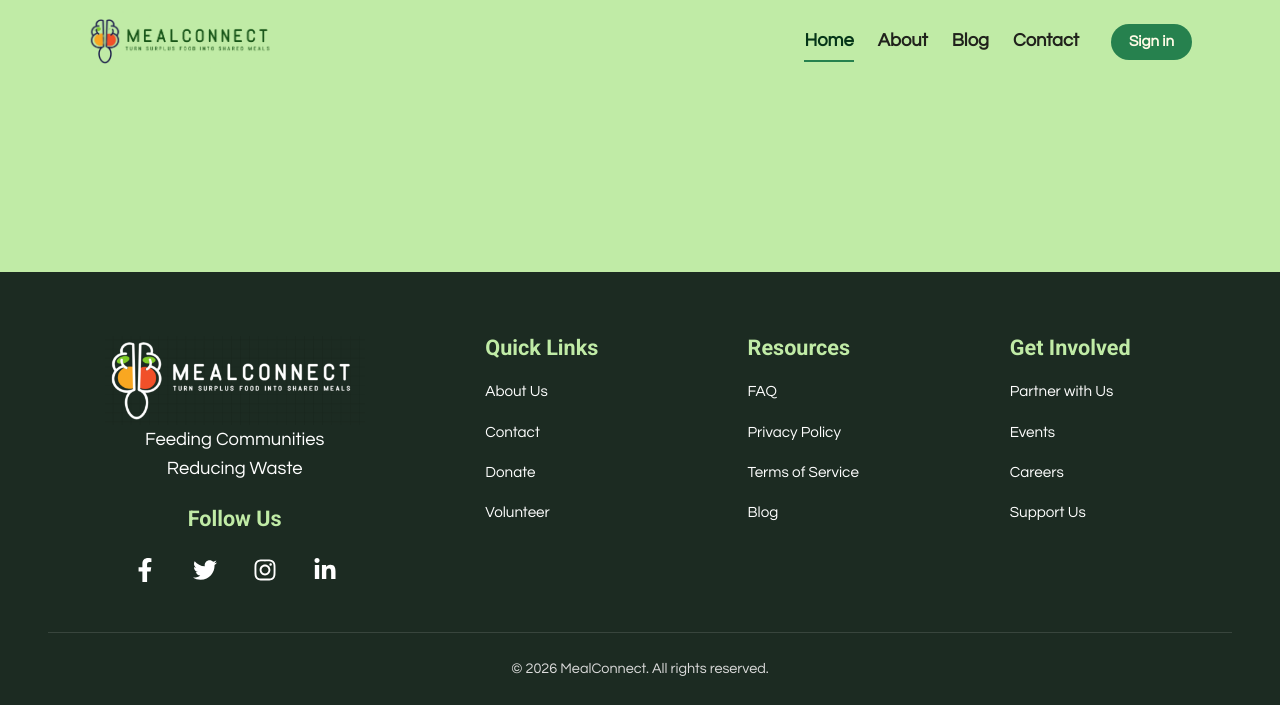
footer navigation › footer link Privacy Policy resolves to a real page
(page scrolled)
Click the link "Privacy Policy".
click(794, 432)  # box [748,425,841,440]
(page scrolled)
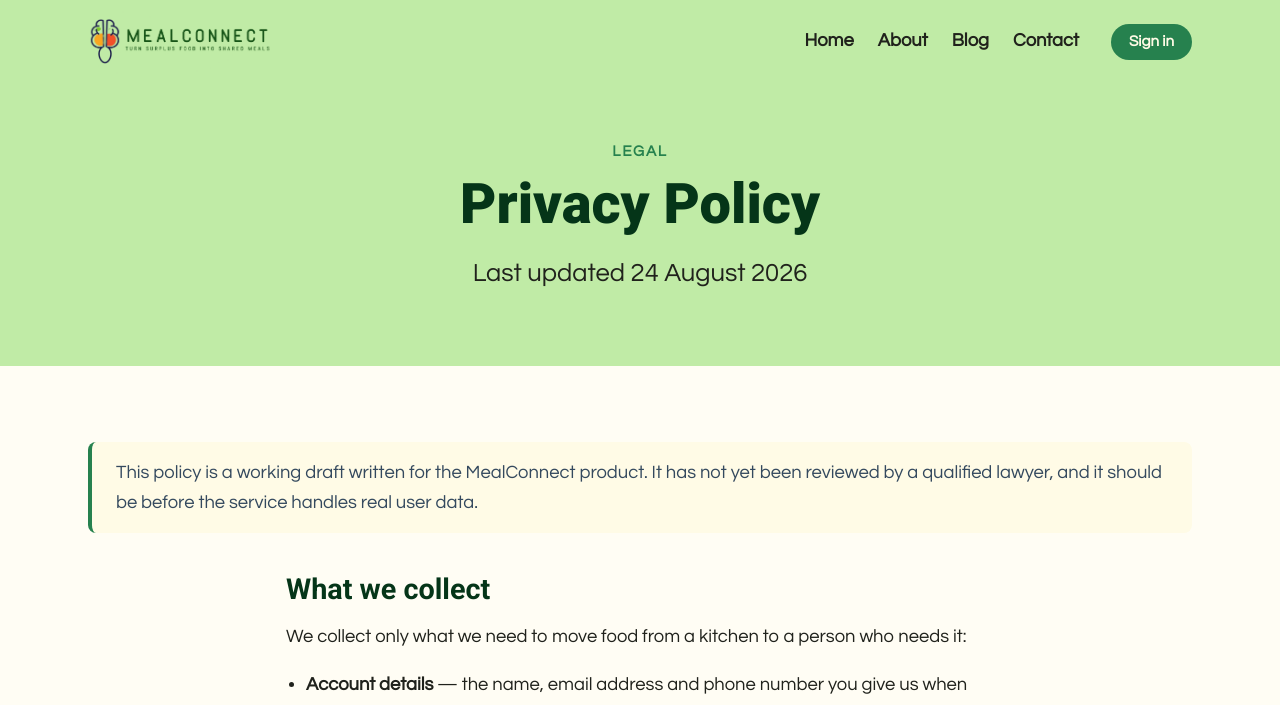
Expected: the heading "Privacy Policy" is shown, [460,171,820,237]
